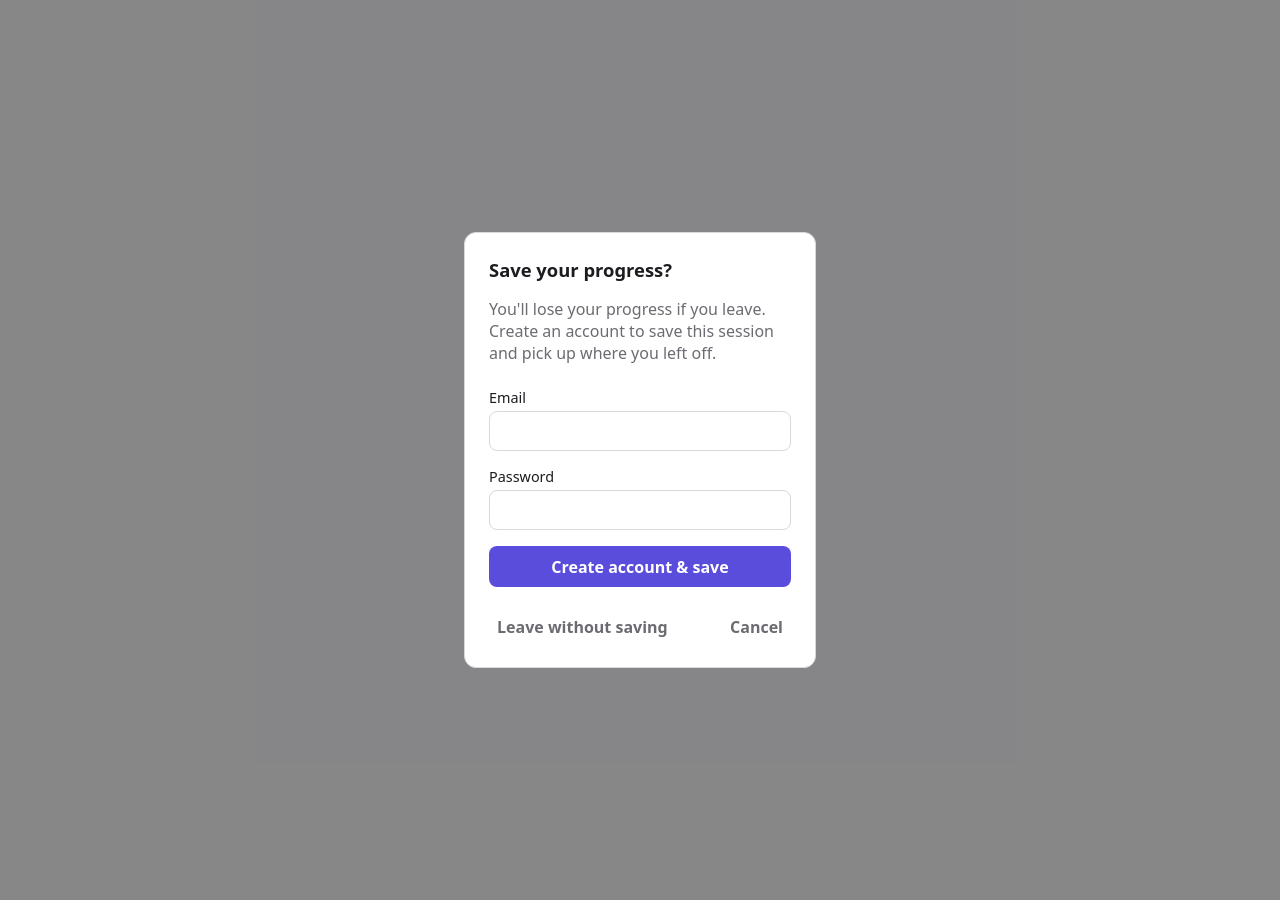
Test: SavePrompt › shows a friendly message when the email is already taken (409) and does not flip auth
Type "taken@example.com" into the field labelled "Email". click: (640, 431)
box: top-left (489, 411), bottom-right (791, 451)
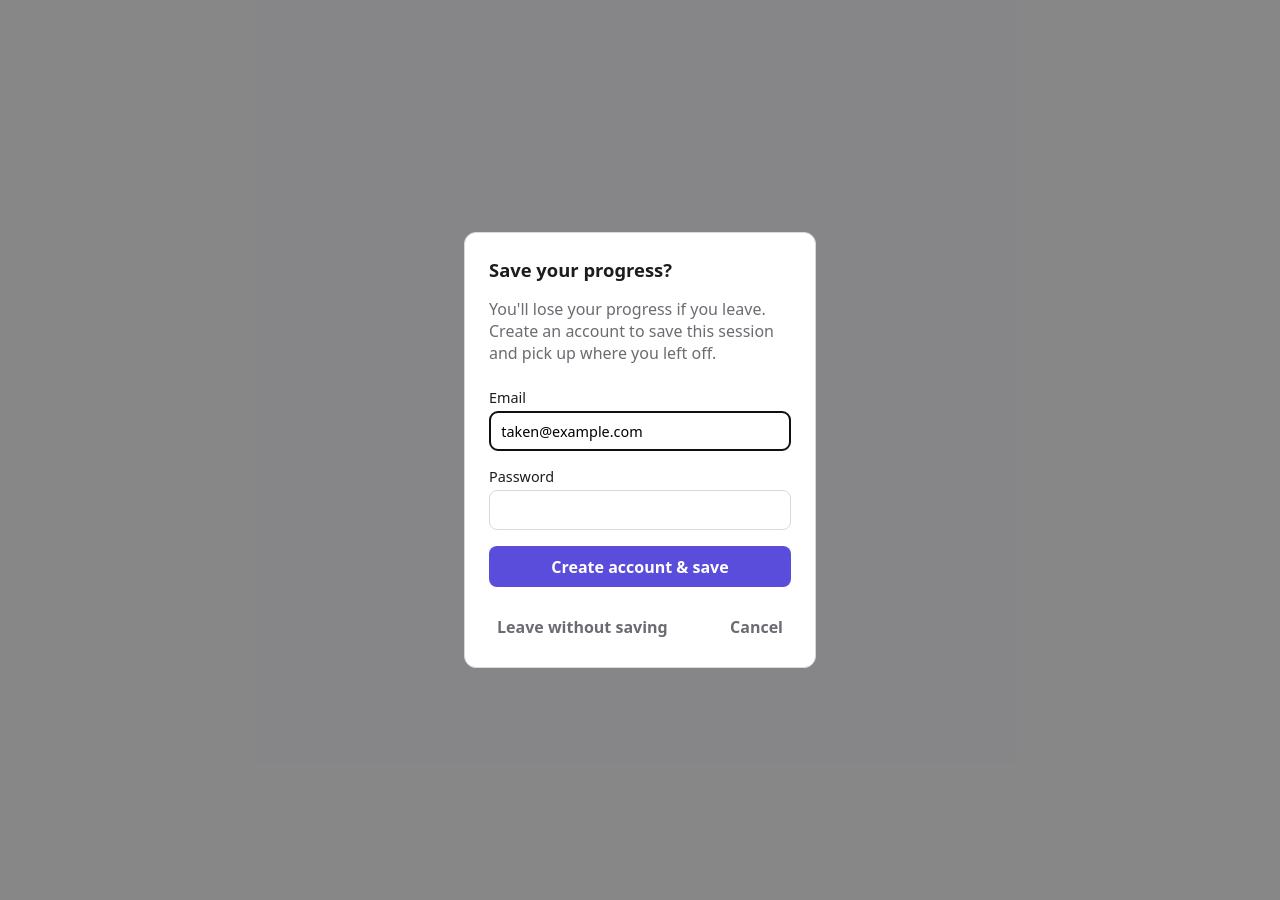
Type "password1" into the password field labelled "Password". click: (640, 510)
box: top-left (489, 490), bottom-right (791, 530)
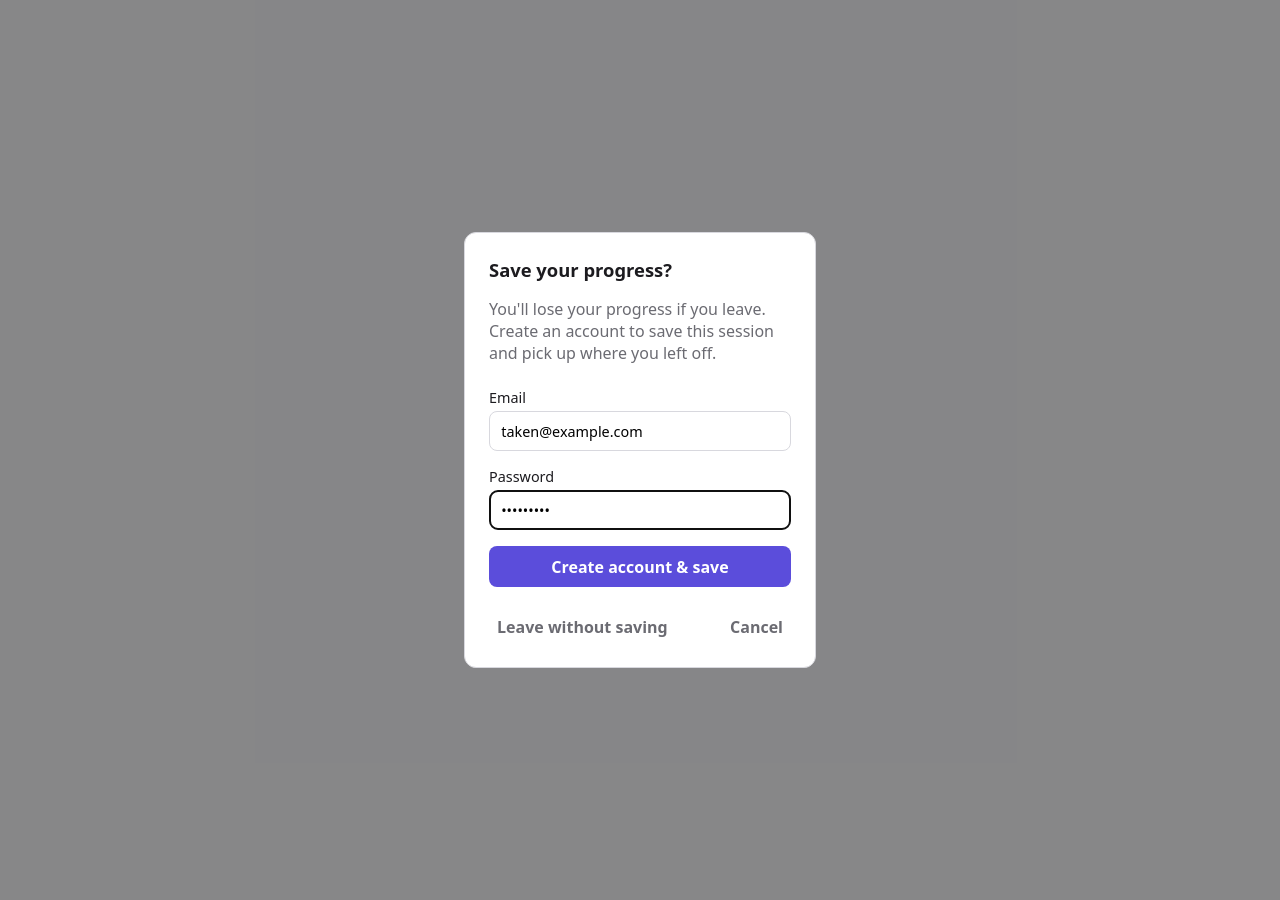
Click the button "Create account & save". click: (640, 567)
box: top-left (489, 546), bottom-right (791, 588)
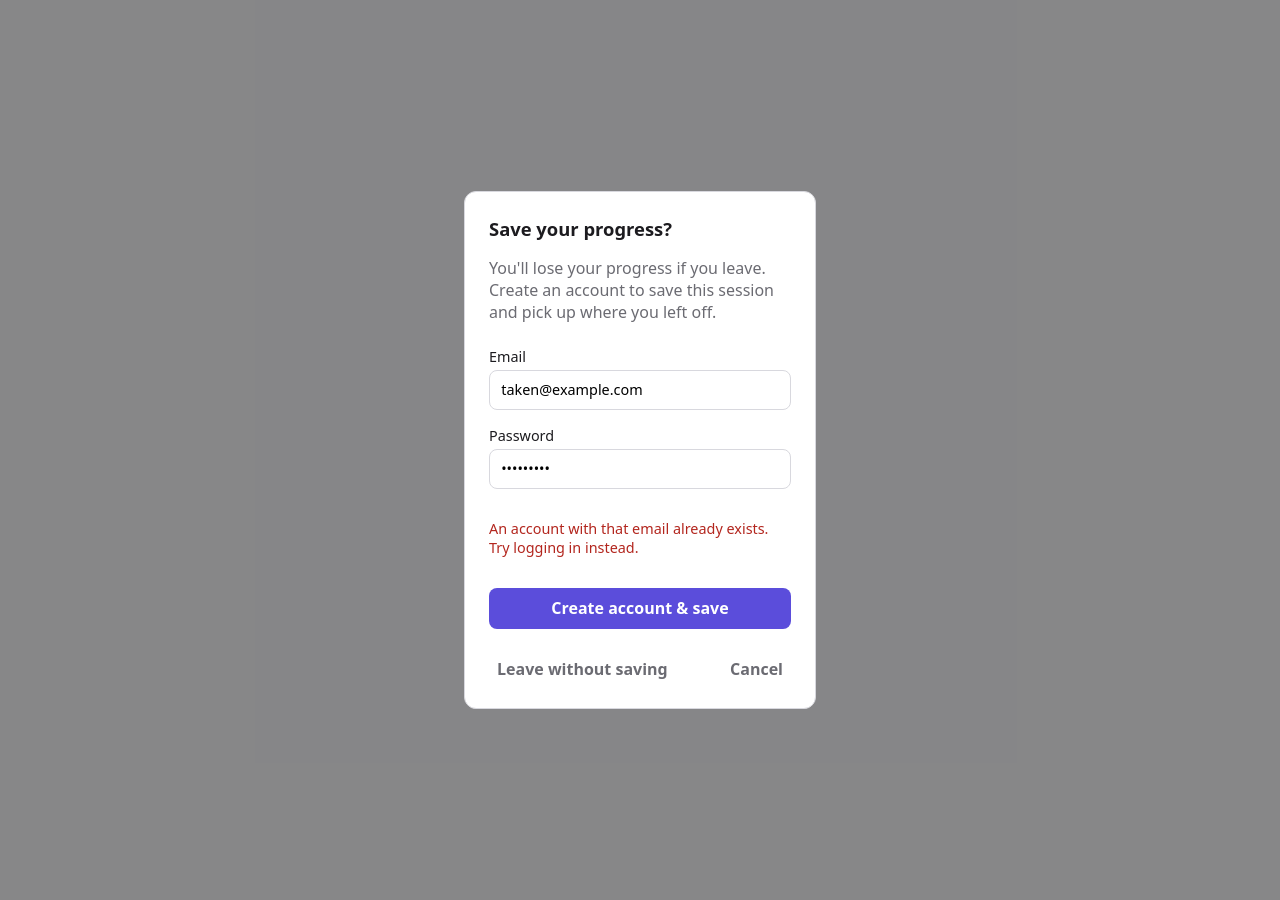
Expected: the text "already exists" is shown, top-left (489, 519), bottom-right (768, 557)
